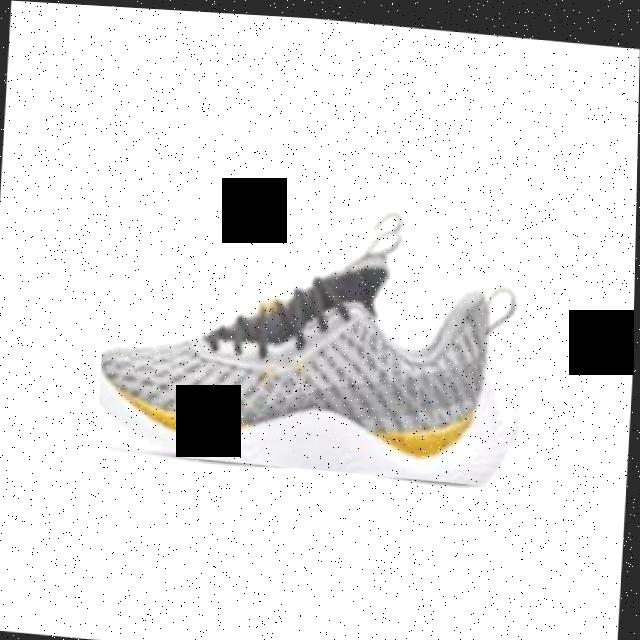shoe: (98, 185, 533, 482)
